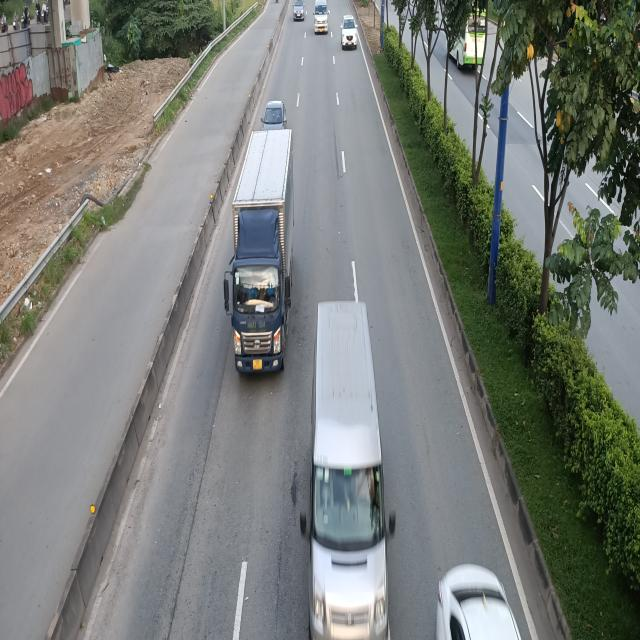car: (342, 14, 358, 50)
truck: (227, 135, 300, 382)
van: (302, 296, 402, 640), (314, 2, 329, 36)
